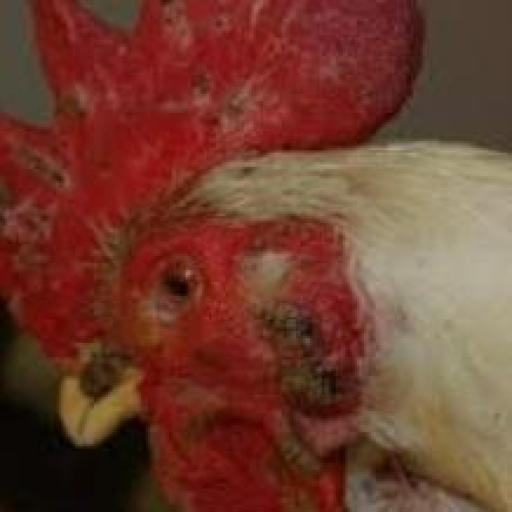disease: (245, 281, 385, 483), (264, 0, 356, 122), (128, 246, 225, 340), (10, 192, 86, 298), (176, 77, 282, 148), (165, 383, 246, 459), (223, 216, 327, 274), (71, 335, 150, 411), (140, 0, 223, 72), (62, 77, 132, 142), (24, 144, 96, 202)
